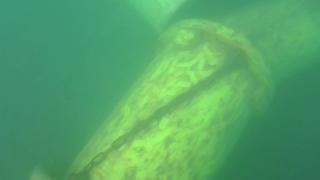pipe: (29, 18, 279, 180), (213, 1, 320, 83), (124, 1, 192, 32)
